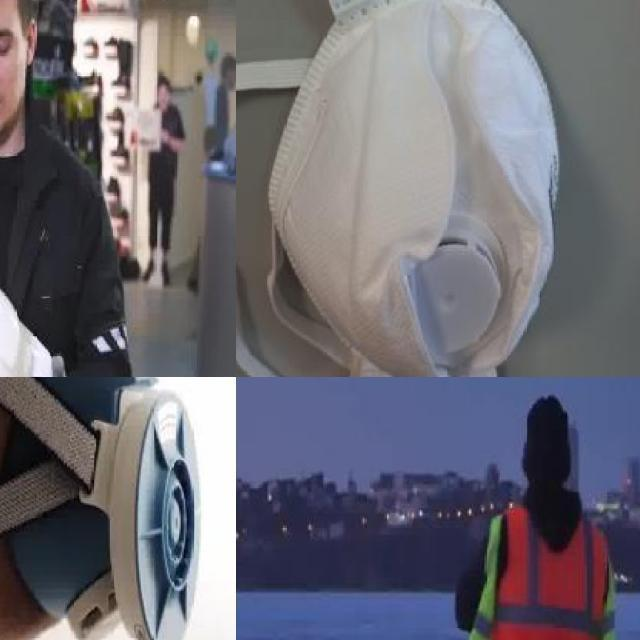apron: (24, 351, 70, 377)
